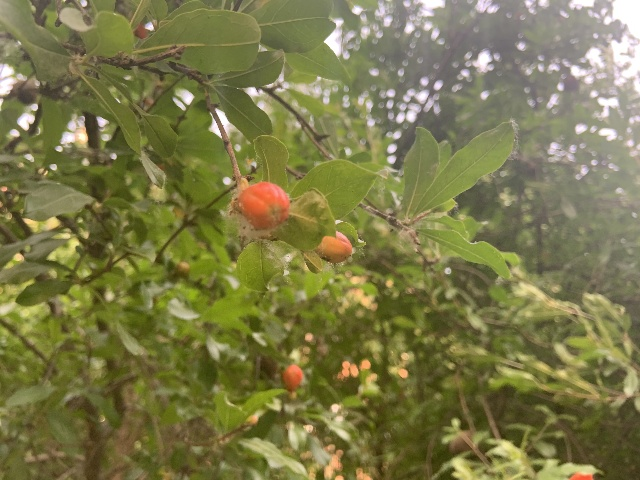bud: (237, 180, 290, 230), (314, 233, 352, 262), (282, 364, 303, 391)
